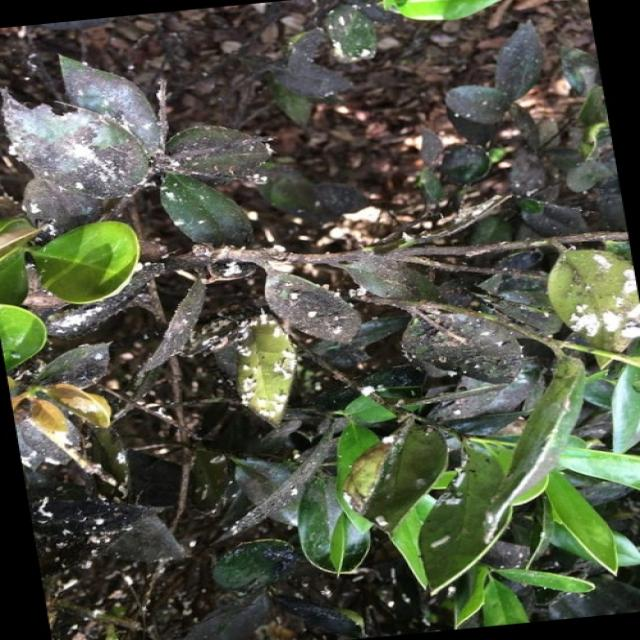Sooty Mold: (1, 3, 636, 637)
